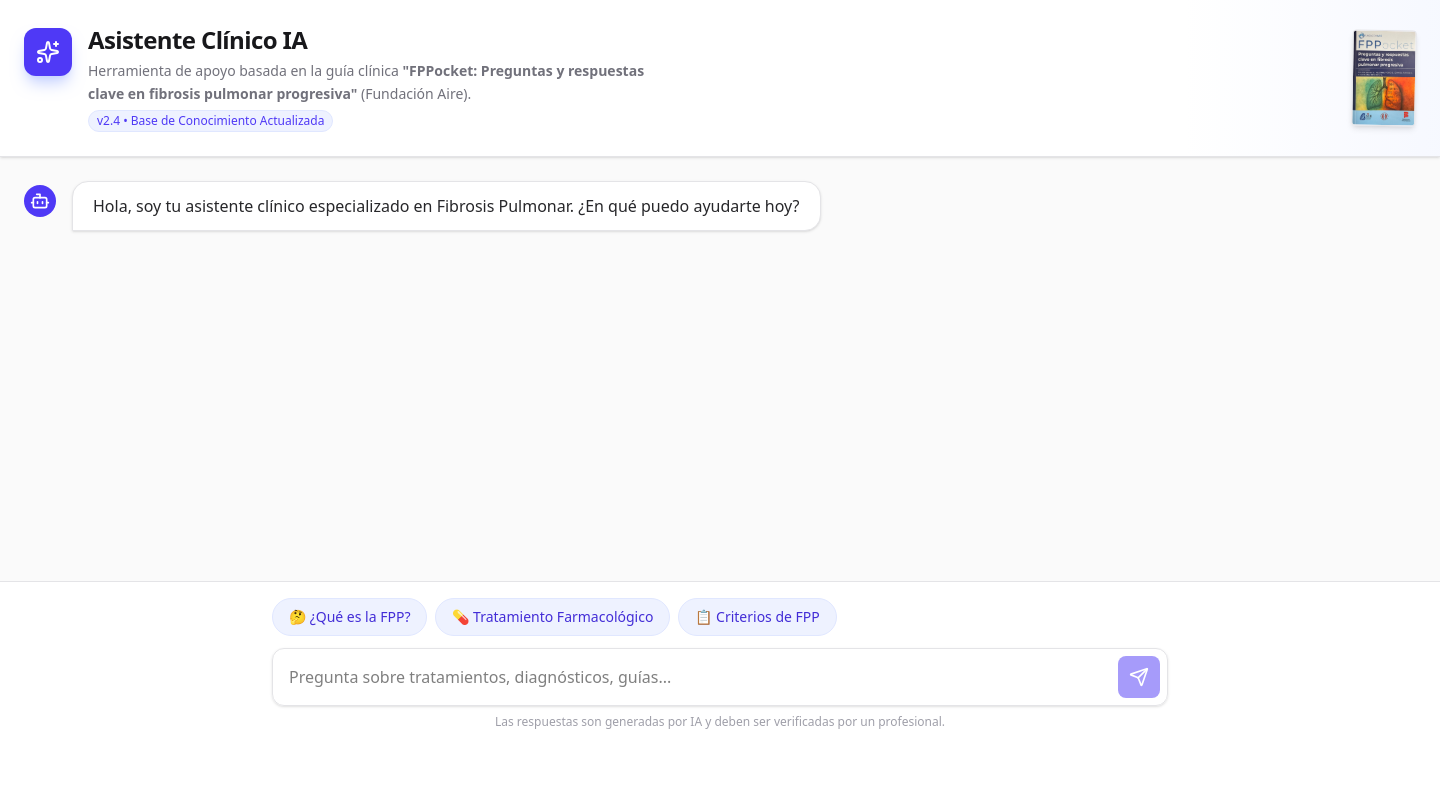
Test: AssistantContent Component › displays warning when response includes internet source tag
// Trigger a prompt
Step 1. Click the button "🤔 ¿Qué es la FPP?" → click(350, 617), box [272,598,428,636]
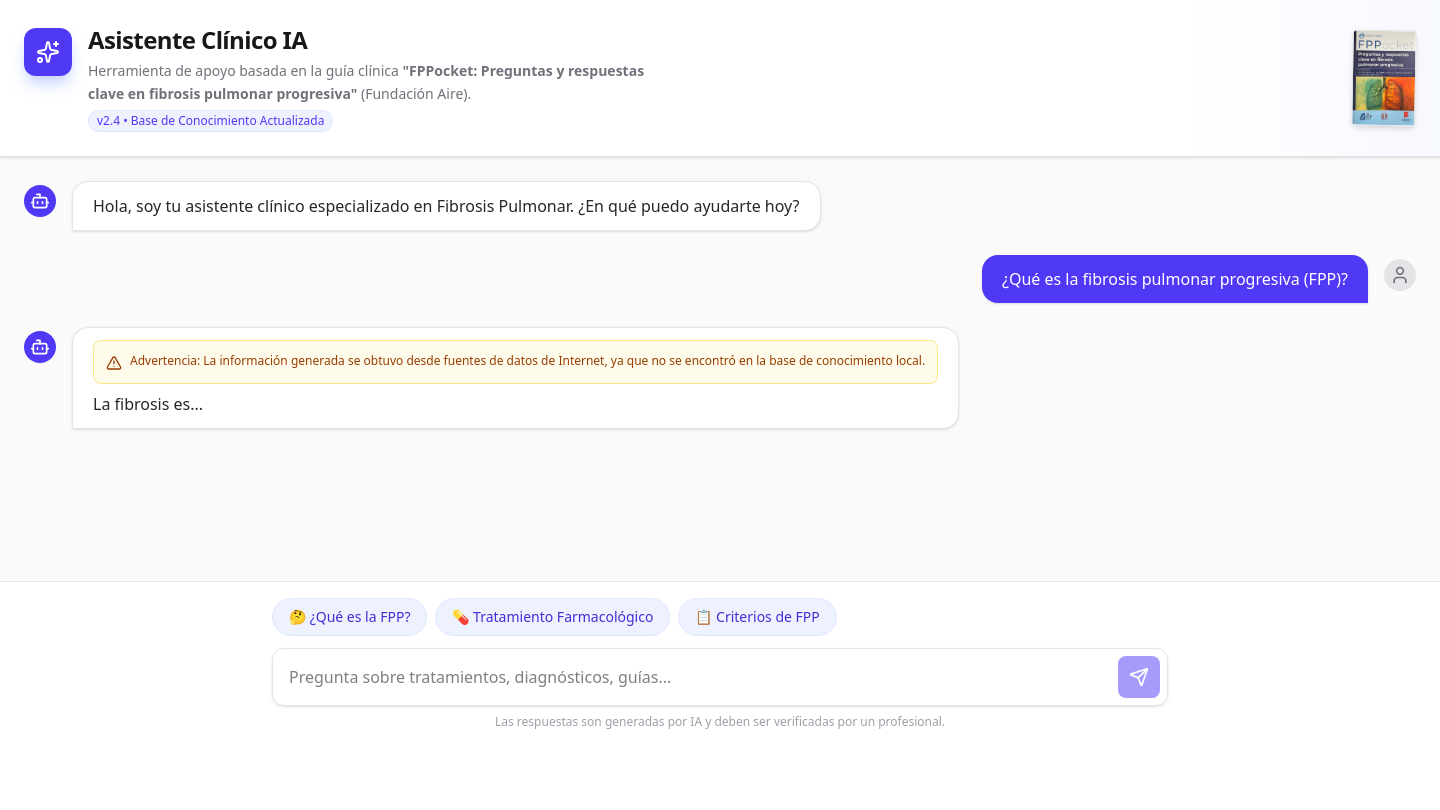
Check: the text "Advertencia: La información generada se obtuvo desde fuentes de datos de Internet" is shown, box [130,352,925,368]
Check: the text "La fibrosis es..." is shown, box [93,392,203,414]
